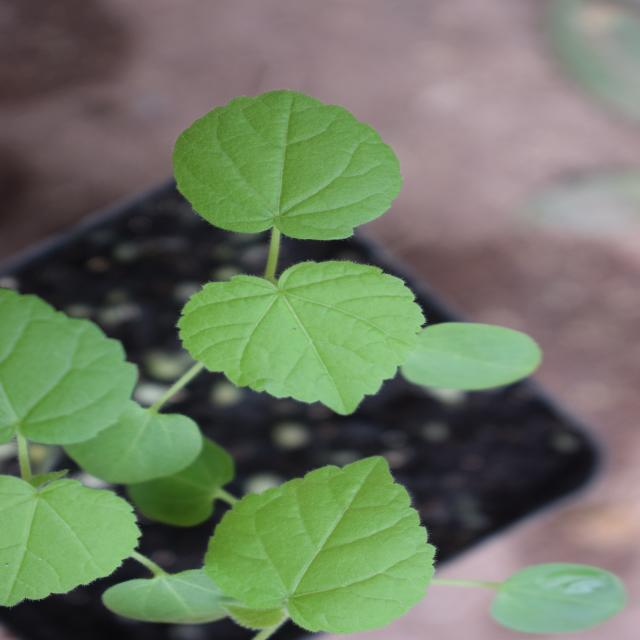abutilon theophrasti: (54, 178, 500, 594)
